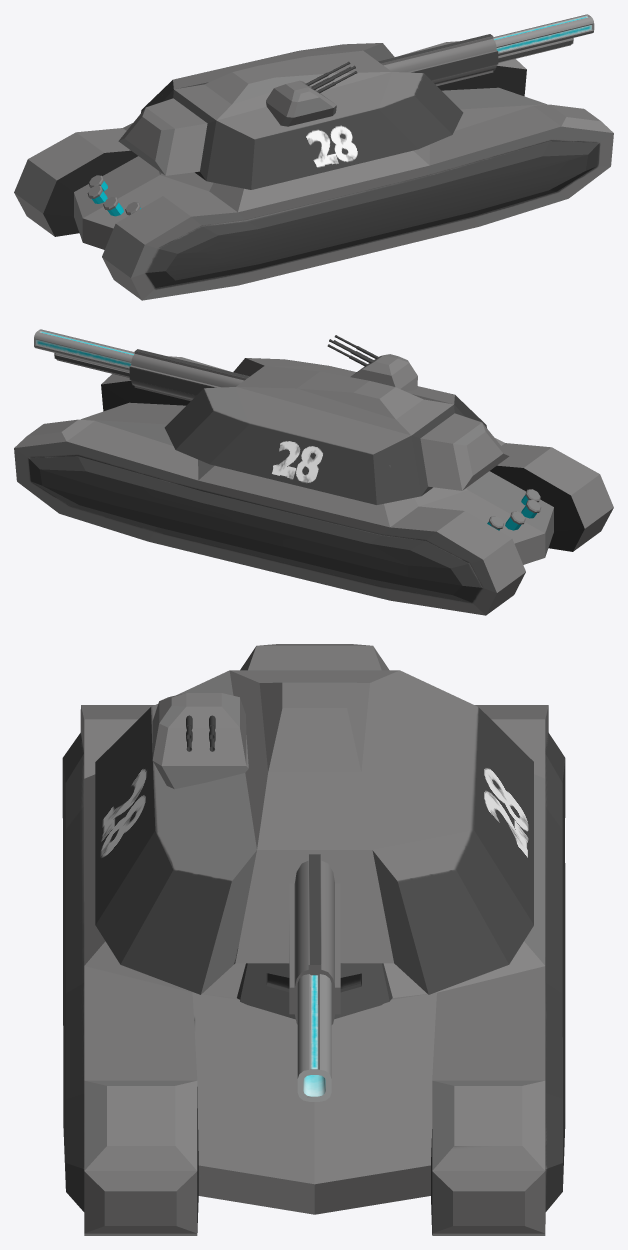
The model's file is Tank.fbx.
3 views of the same model, one above another, from view 1: azimuth 30°, elevation 25°; view 2: azimuth 150°, elevation 25°; view 3: azimuth 270°, elevation 25° (orthographic). The views are drawn at different scales.
Parts seen in each view (by area): view 1: pCylinder12, pCube2, pCylinder3, pCylinder2; view 2: pCylinder12, pCube2, pCylinder3, pCylinder2; view 3: pCylinder12, pCube2, pCylinder3, pCylinder2.
Boxes of the visible parts, x1,y1,x2,y2 form: pCylinder12: (14,41,613,300); pCube2: (118,43,463,189); pCylinder3: (378,34,573,85); pCylinder2: (493,14,594,55); pCylinder12: (14,356,613,615); pCube2: (164,335,509,504); pCylinder3: (54,349,249,401); pCylinder2: (34,329,134,370); pCylinder12: (62,705,565,1235); pCube2: (95,644,533,994); pCylinder3: (289,854,340,1024); pCylinder2: (297,974,331,1101).
Size of the model in its own units: 6.29 by 2.02 by 2.65.
